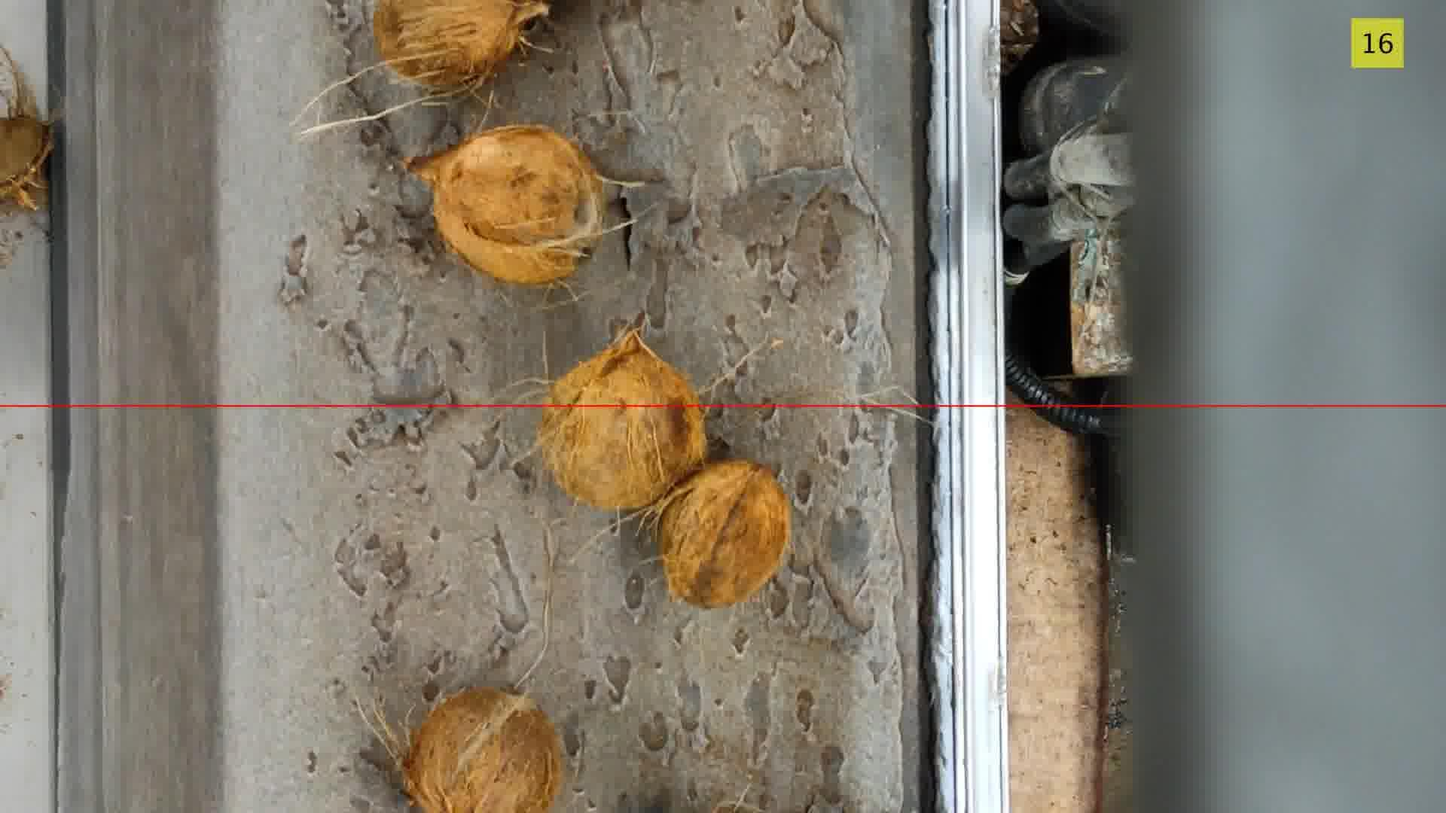Coconut: (538, 330, 706, 508), (434, 124, 605, 282), (654, 459, 790, 607), (402, 688, 561, 812), (373, 0, 549, 87), (0, 48, 53, 210)
